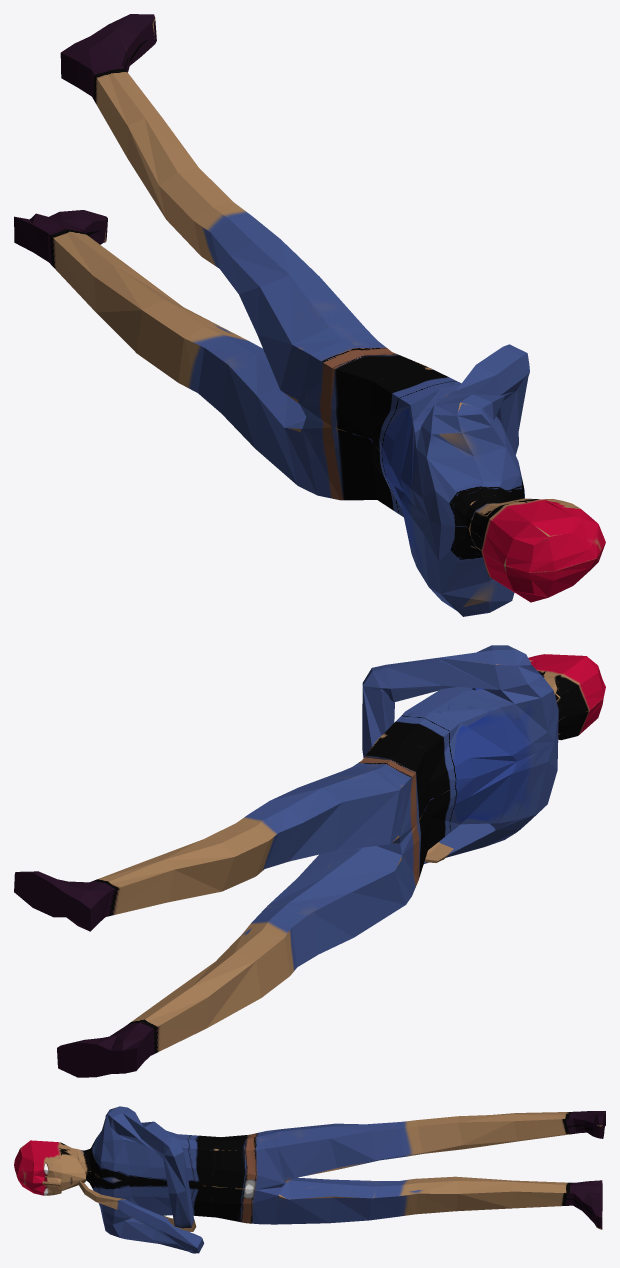
The model's file is mirrorman_000029.obj.
3 views of the same model, one above another, from view 1: azimuth 30°, elevation 25°; view 2: azimuth 150°, elevation 25°; view 3: azimuth 270°, elevation 25° (orthographic). The views are drawn at different scales.
Parts seen in each view (by area): view 1: mirrorman_Cube.001_Material.001; view 2: mirrorman_Cube.001_Material.001; view 3: mirrorman_Cube.001_Material.001.
Boxes of the visible parts, bbox=[...] form: mirrorman_Cube.001_Material.001: bbox=[14, 14, 605, 616]; mirrorman_Cube.001_Material.001: bbox=[14, 645, 605, 1077]; mirrorman_Cube.001_Material.001: bbox=[14, 1106, 605, 1253].
Bounding box in the file's own units: 0.3568 × 0.5168 × 1.9.
